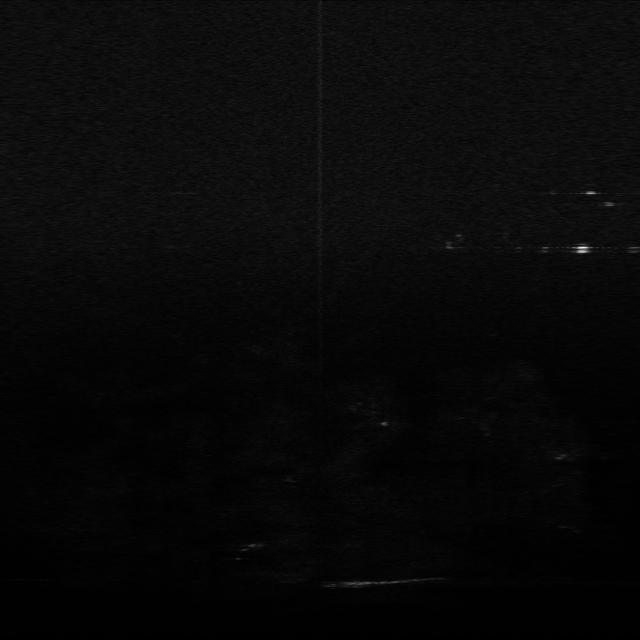rov: (570, 238, 594, 259)
